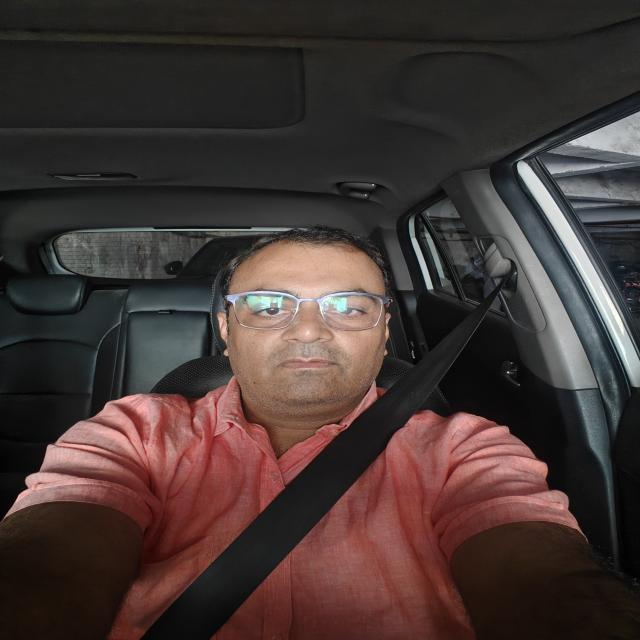seatbelt: (112, 246, 548, 640)
